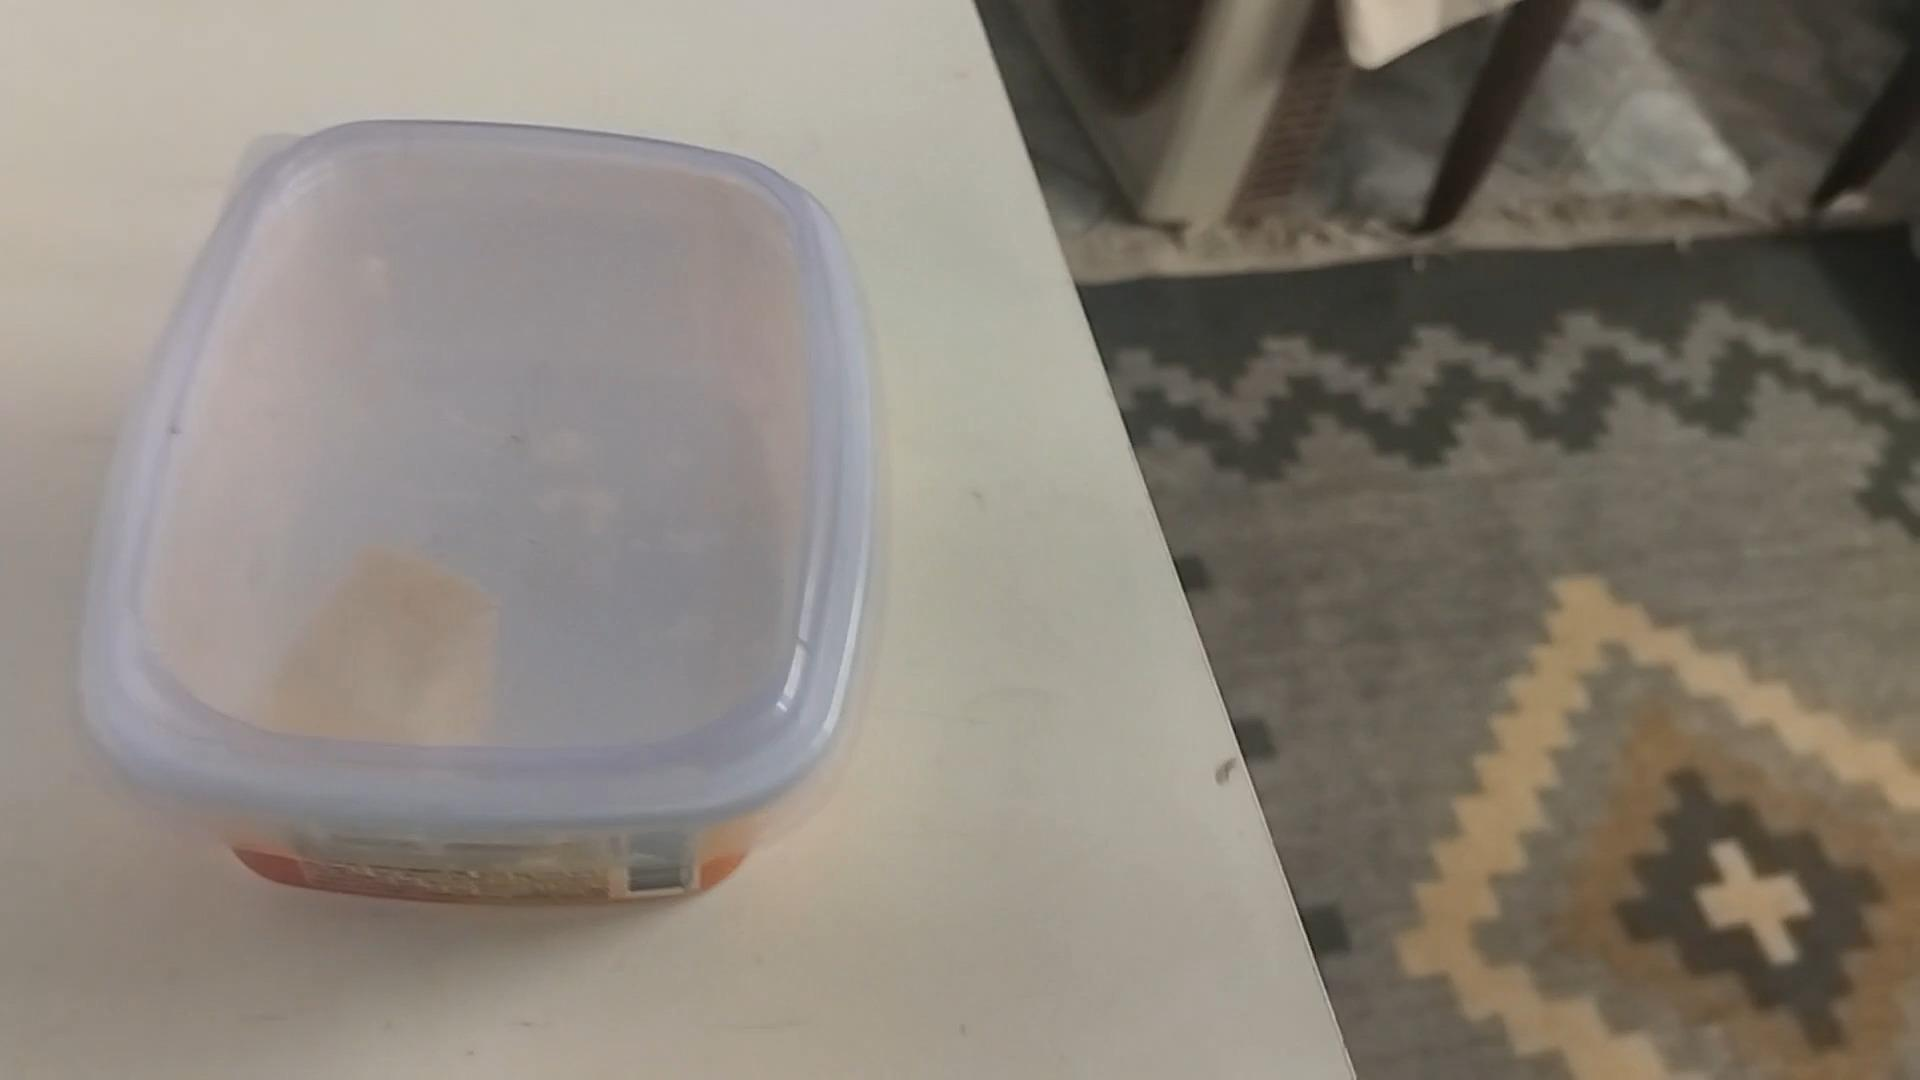butter: (84, 129, 872, 907)
